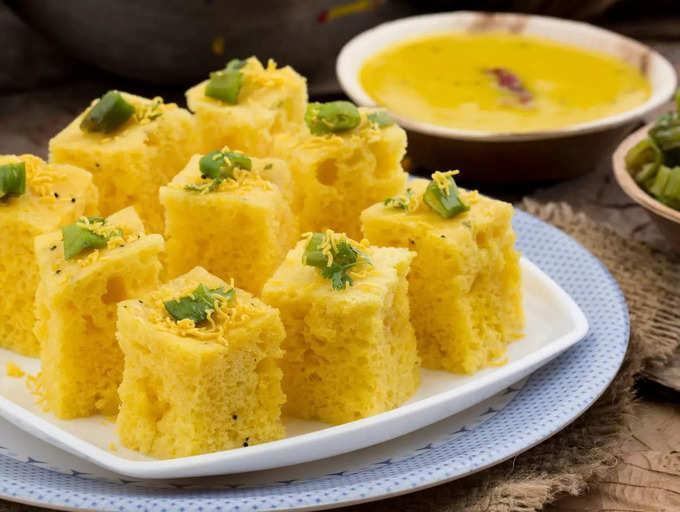dhokla: (4, 82, 463, 443)
